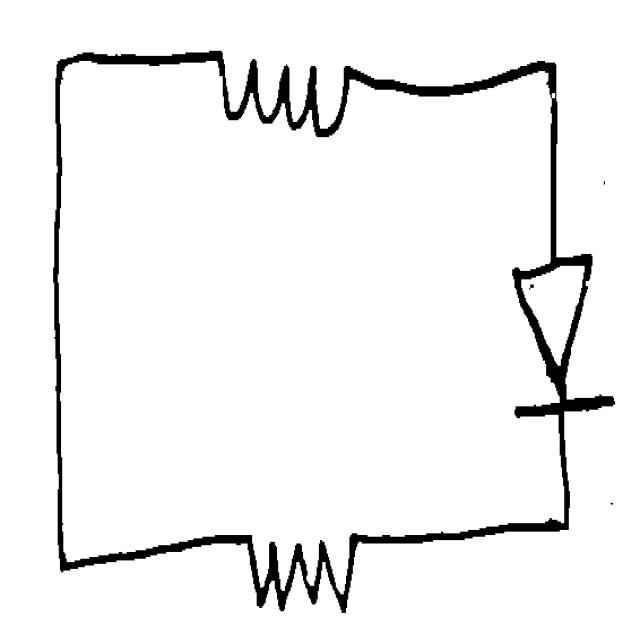diode: (497, 239, 625, 433)
inductor: (201, 23, 362, 148)
resistor: (231, 515, 370, 619)
